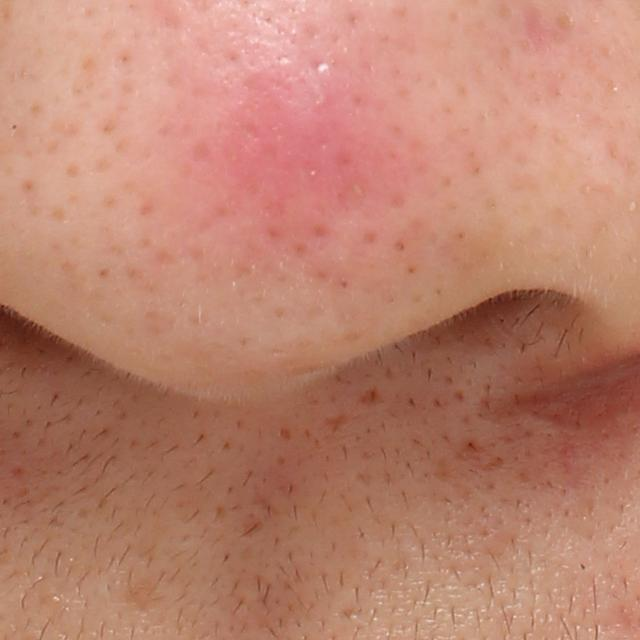atrophic_scar: (117, 574, 171, 619), (354, 383, 385, 409), (323, 413, 352, 430)
hypertrophic_scar: (507, 409, 566, 436)
